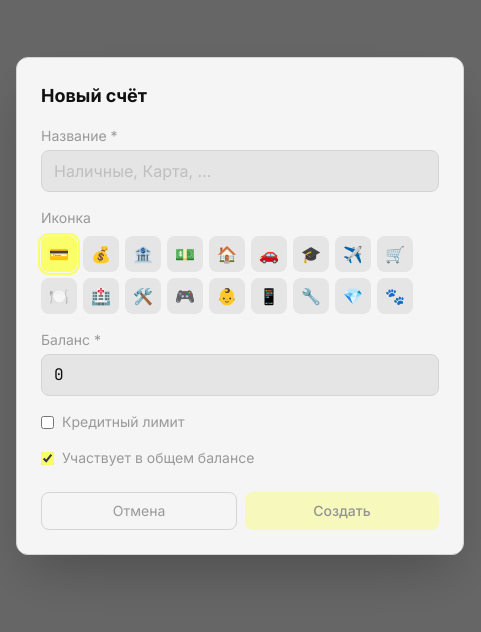
Test: AccountModal › credit limit › shows limit field when checkbox is enabled
Click the checkbox labelled "Кредитный лимит" at (48, 422), box [41,416,54,428]
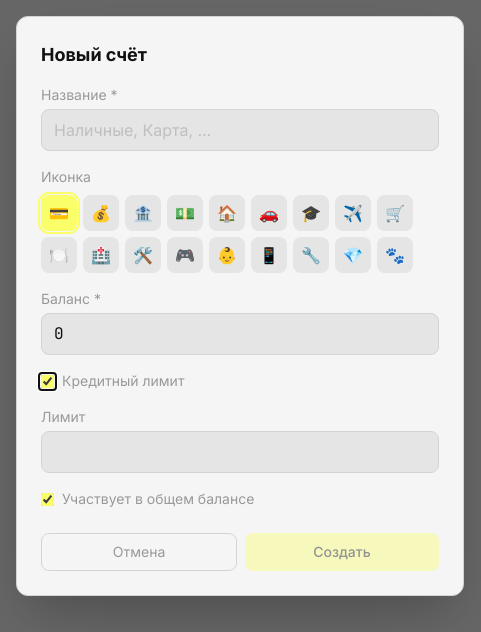
Result: the text "Лимит" is shown at [41,408,85,425]
